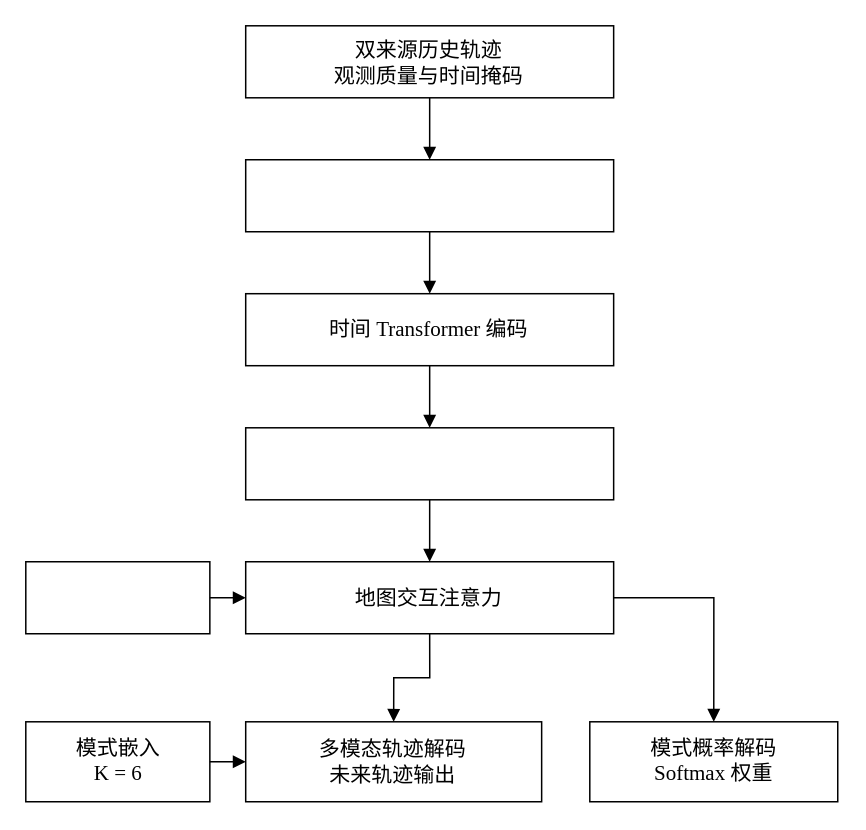
The diagram is 866 pixels wide and 830 high, and some of its shapes have lost their labels. Each missing label, with the centre of its shape:
特征嵌入与可靠性门控: point (429, 195)
车辆交互图注意力: point (429, 463)
车道与 信号信息: point (117, 597)
